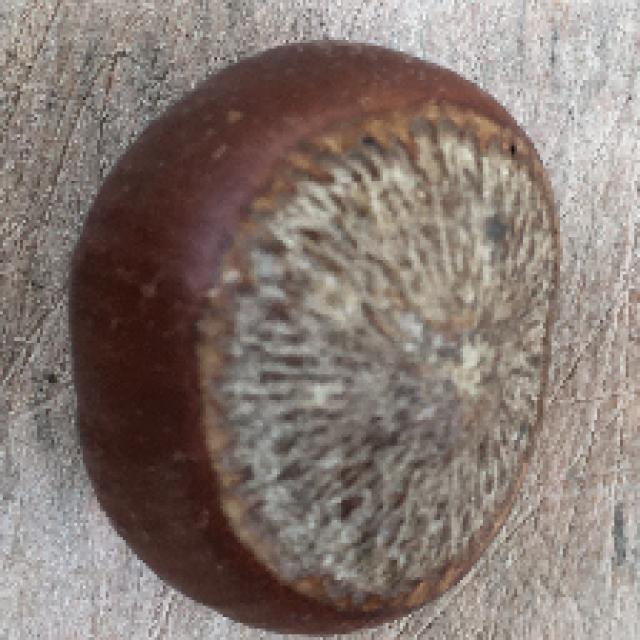qualityHazelnut: (66, 35, 563, 632)
